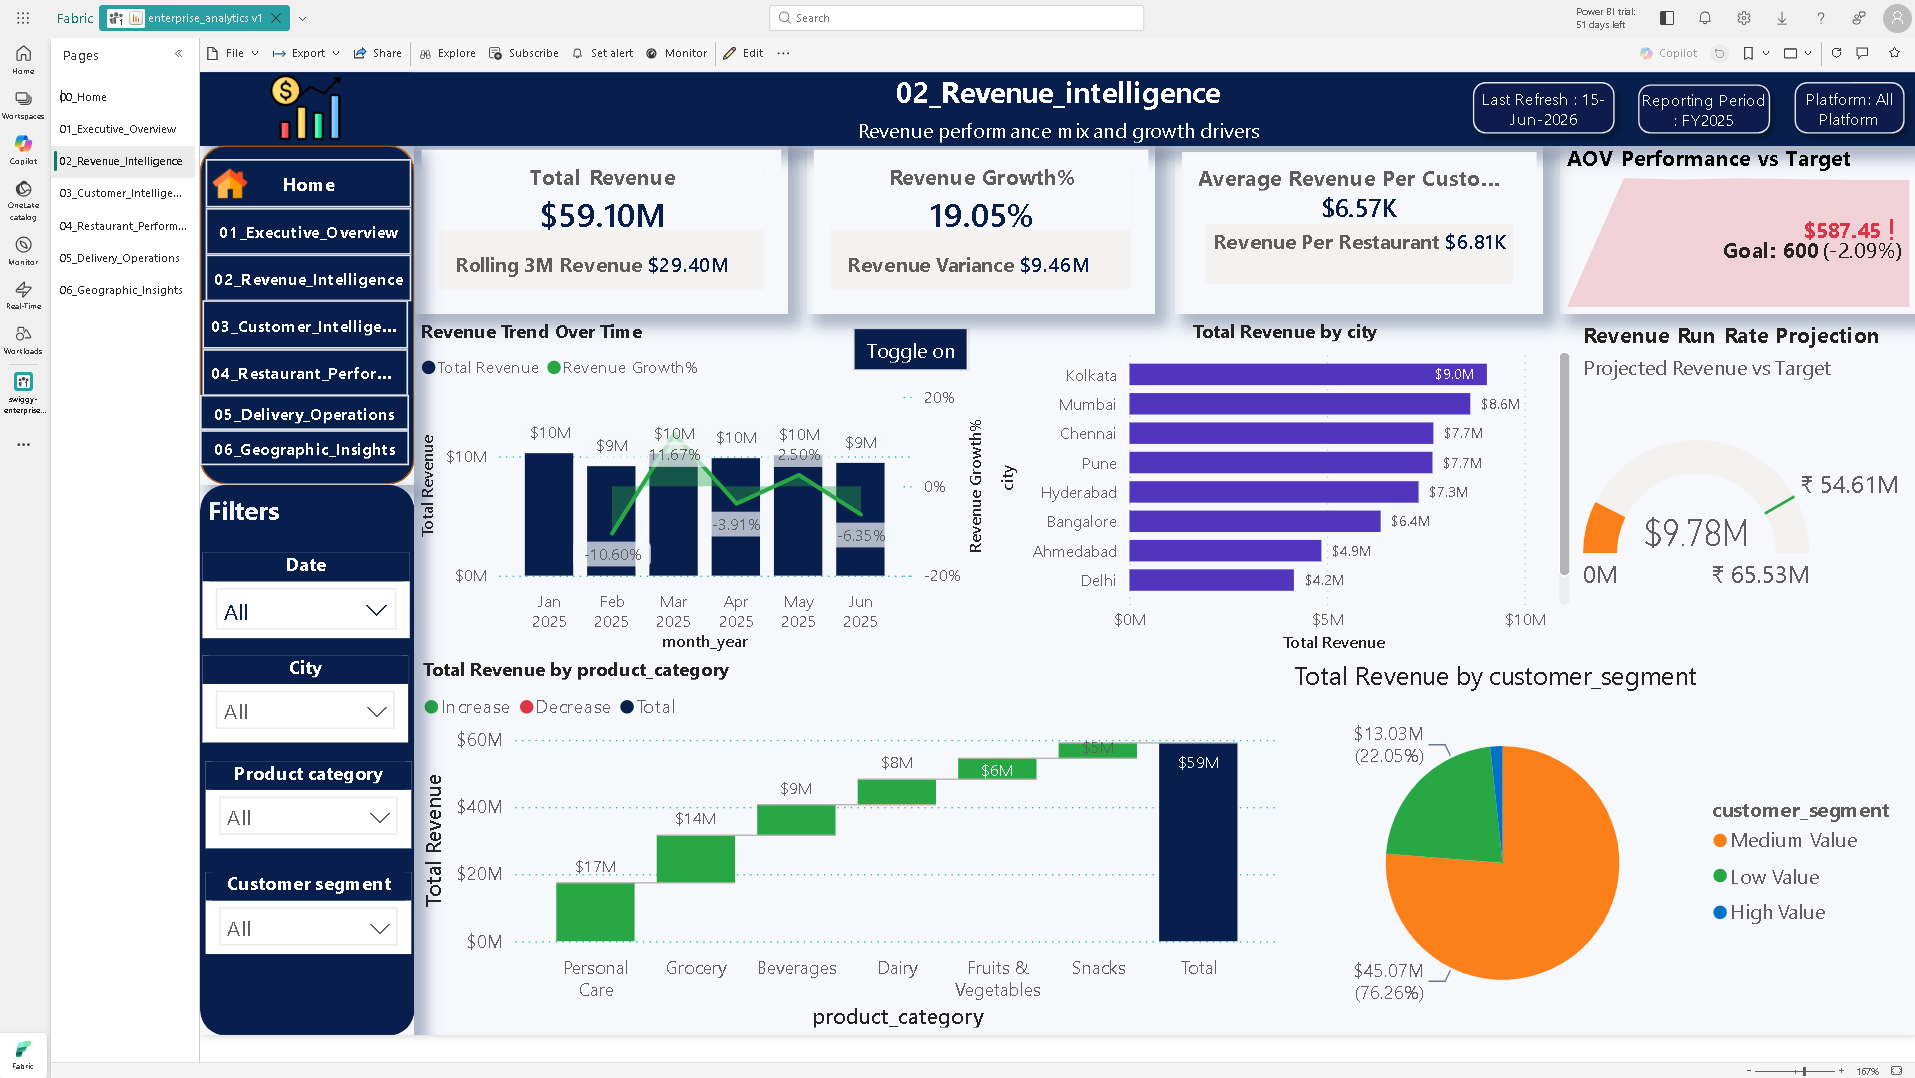

This screenshot's page, from the dashboard's own definition file:
{"tool":"powerbi","page":{"name":"02_Revenue_Intelligence","canvas":[1280,720],"ordinal":2},"visuals":[{"type":"shape","title":"02_Revenue_intelligence ","box":[0,1.8,1279.5,54.5],"z":0},{"type":"shape","box":[939.7,0,123.6,56.3],"z":1000},{"type":"shape","box":[1063.3,1.8,116.3,54.5],"z":2000},{"type":"shape","box":[1179.6,0,100,56.3],"z":3000},{"type":"cardVisual","fields":{"Data":["Measure_Table.Average Revenue Per Customer"]},"box":[727,56.3,274.4,125.4],"z":4000},{"type":"image","box":[0,1.8,156.3,52.7],"z":5000},{"type":"kpi","title":"AOV Performance vs Target","fields":{"TrendLine":["dim_date.month"],"Indicator":["Measure_Table.Average Order Value"],"Goal":["Measure_Table.AOV Target"]},"box":[1014.2,54.5,265.4,127.2],"z":6000},{"type":"lineClusteredColumnComboChart","title":"Revenue Trend Over Time","fields":{"Category":["dim_date.month_year"],"Y":["Measure_Table.Total Revenue"],"Y2":["Measure_Table.Revenue Growth%"]},"box":[159.6,185.8,432.3,252.5],"z":7000},{"type":"bookmarkNavigator","title":"Toggle ON/OFF","box":[486.8,191.9,86.9,32.3],"z":9000},{"type":"waterfallChart","fields":{"Y":["Measure_Table.Total Revenue"],"Category":["fact_orders.product_category"]},"box":[161.6,438.4,648.4,280.8],"z":10000},{"type":"barChart","fields":{"Y":["Measure_Table.Total Revenue"],"Category":["dim_restaurants.city"]},"box":[591.9,185.8,434.3,252.5],"z":11000},{"type":"gauge","title":"Revenue Run Rate Projection","fields":{"Y":["Measure_Table.Revenue Run Rate Projection"],"TargetValue":["Measure_Table.Monthly Revenue Target"],"MaxValue":["Measure_Table.Revenue Gauge Max"],"MinValue":["Measure_Table.Measure"]},"box":[1026.2,185.8,252.5,252.5],"z":12000},{"type":"cardVisual","fields":{"Data":["Measure_Table.Total Revenue"]},"box":[159.9,54.5,278.1,127.2],"z":13000},{"type":"cardVisual","fields":{"Data":["Measure_Table.Revenue Growth%"]},"box":[452.6,54.5,259.9,127.2],"z":14000},{"type":"shape","title":"Filters","box":[0,309.2,159.9,410.8],"z":15000},{"type":"shape","box":[0,56.3,159.9,252.6],"z":16000},{"type":"actionButton","title":"Home","box":[4,66.6,153.5,36.4],"z":17000},{"type":"actionButton","title":"01_Executive_Overview","box":[4,103,153.5,34.3],"z":18000},{"type":"actionButton","title":"02_Revenue_Intelligence","box":[4,137.3,153.5,34.3],"z":19000},{"type":"actionButton","title":"03_Customer_Intelligence","box":[2,171.7,153.5,36.4],"z":20000},{"type":"actionButton","title":"04_Restaurant_Performance","box":[2,208,153.5,34.3],"z":21000},{"type":"actionButton","title":"05_Delivery_Operations","box":[0,242.4,155.5,26.3],"z":22000},{"type":"actionButton","title":"05_Delivery_Operations","box":[0,268.6,155.5,26.3],"z":23000},{"type":"pieChart","fields":{"Category":["dim_customers.customer_segment"],"Y":["Measure_Table.Total Revenue"]},"box":[810,438.4,468.7,280.8],"z":24000},{"type":"slicer","title":"Date","fields":{"Values":["dim_date.month_year","dim_date.weekday_name"]},"box":[1.8,359.9,154.5,63.6],"z":25000},{"type":"slicer","title":"City","fields":{"Values":["dim_restaurants.city"]},"box":[2,436.3,153.5,64.6],"z":26000},{"type":"slicer","title":"Product category","fields":{"Values":["fact_orders.product_category"]},"box":[4,515.1,153.5,64.6],"z":27000},{"type":"slicer","title":"Customer segment","fields":{"Values":["dim_customers.customer_segment"]},"box":[4,597.9,153.5,60.6],"z":28000}]}

Visuals, with their boxes on the page's 1280x720 design canvas (x1, y1, x2, y2). These are canvas units, not pixel positions in the 1915x1078 screenshot, which may show the page scaled, cropped or inside an application window:
"02_Revenue_intelligence " shape: {"left": 0, "top": 2, "right": 1280, "bottom": 56}
shape: {"left": 940, "top": 0, "right": 1063, "bottom": 56}
shape: {"left": 1063, "top": 2, "right": 1180, "bottom": 56}
shape: {"left": 1180, "top": 0, "right": 1280, "bottom": 56}
cardVisual - Measure_Table.Average Revenue Per Customer: {"left": 727, "top": 56, "right": 1001, "bottom": 182}
image: {"left": 0, "top": 2, "right": 156, "bottom": 54}
"AOV Performance vs Target" kpi: {"left": 1014, "top": 54, "right": 1280, "bottom": 182}
"Revenue Trend Over Time" lineClusteredColumnComboChart: {"left": 160, "top": 186, "right": 592, "bottom": 438}
"Toggle ON/OFF" bookmarkNavigator: {"left": 487, "top": 192, "right": 574, "bottom": 224}
waterfallChart - Measure_Table.Total Revenue x fact_orders.product_category: {"left": 162, "top": 438, "right": 810, "bottom": 719}
barChart - Measure_Table.Total Revenue x dim_restaurants.city: {"left": 592, "top": 186, "right": 1026, "bottom": 438}
"Revenue Run Rate Projection" gauge: {"left": 1026, "top": 186, "right": 1279, "bottom": 438}
cardVisual - Measure_Table.Total Revenue: {"left": 160, "top": 54, "right": 438, "bottom": 182}
cardVisual - Measure_Table.Revenue Growth%: {"left": 453, "top": 54, "right": 712, "bottom": 182}
"Filters" shape: {"left": 0, "top": 309, "right": 160, "bottom": 720}
shape: {"left": 0, "top": 56, "right": 160, "bottom": 309}
"Home" actionButton: {"left": 4, "top": 67, "right": 158, "bottom": 103}
"01_Executive_Overview" actionButton: {"left": 4, "top": 103, "right": 158, "bottom": 137}
"02_Revenue_Intelligence" actionButton: {"left": 4, "top": 137, "right": 158, "bottom": 172}
"03_Customer_Intelligence" actionButton: {"left": 2, "top": 172, "right": 156, "bottom": 208}
"04_Restaurant_Performance" actionButton: {"left": 2, "top": 208, "right": 156, "bottom": 242}
"05_Delivery_Operations" actionButton: {"left": 0, "top": 242, "right": 156, "bottom": 269}
"05_Delivery_Operations" actionButton: {"left": 0, "top": 269, "right": 156, "bottom": 295}
pieChart - dim_customers.customer_segment x Measure_Table.Total Revenue: {"left": 810, "top": 438, "right": 1279, "bottom": 719}
"Date" slicer: {"left": 2, "top": 360, "right": 156, "bottom": 424}
"City" slicer: {"left": 2, "top": 436, "right": 156, "bottom": 501}
"Product category" slicer: {"left": 4, "top": 515, "right": 158, "bottom": 580}
"Customer segment" slicer: {"left": 4, "top": 598, "right": 158, "bottom": 658}
